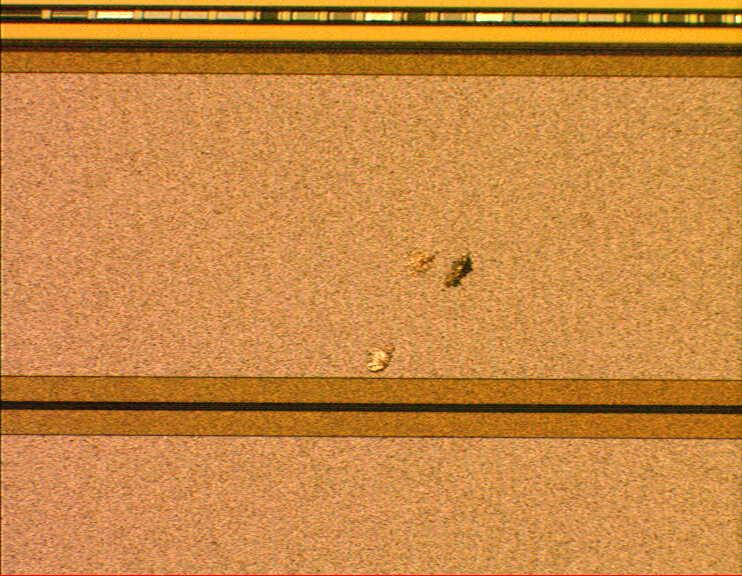SCRATCH: (350, 232, 484, 390)
